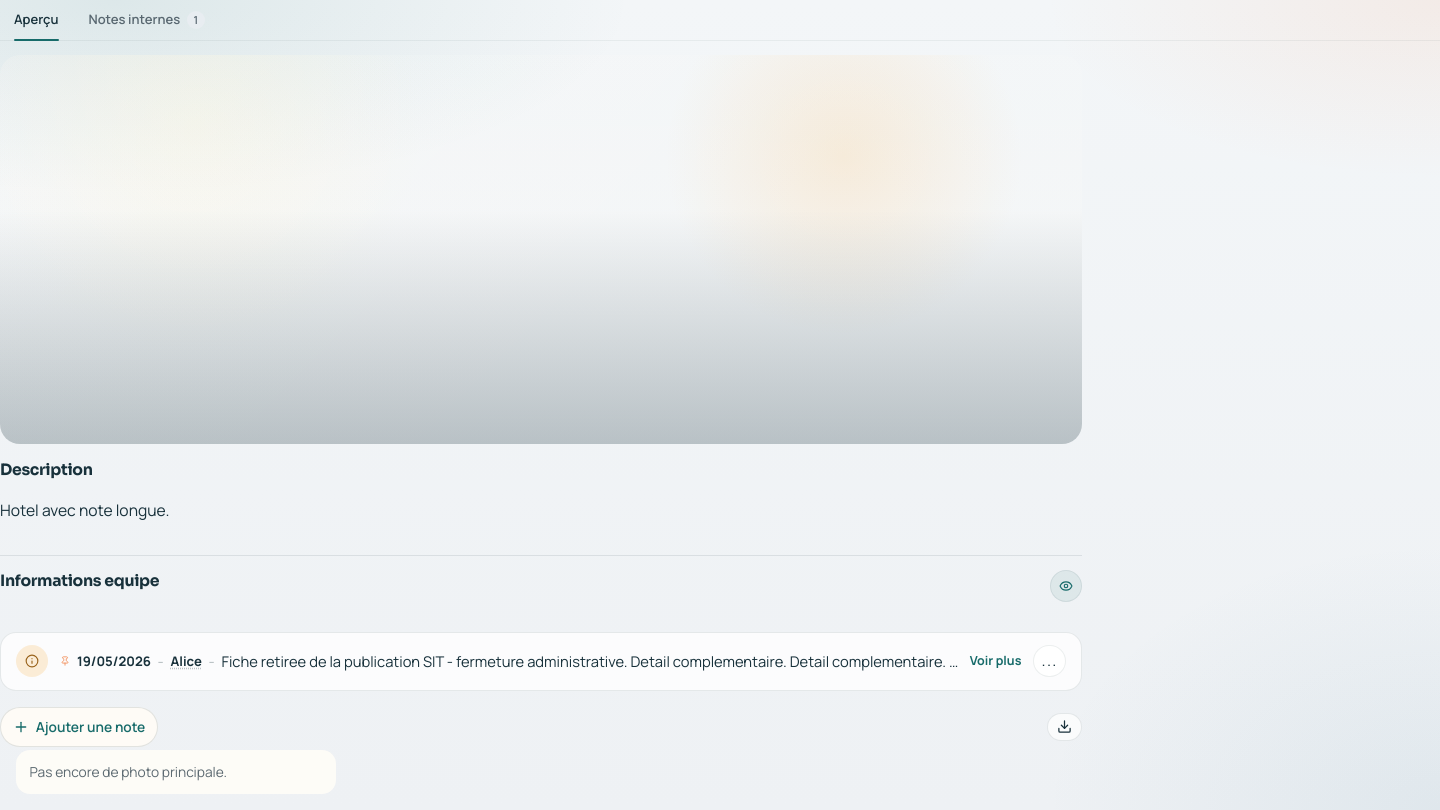
Test: ObjectDetailView › opens a dialog with the full note body when the user clicks a team note preview
Step 1. Click the button with aria-label "afficher la note complete" → (519, 661), box [16,645,1021,677]
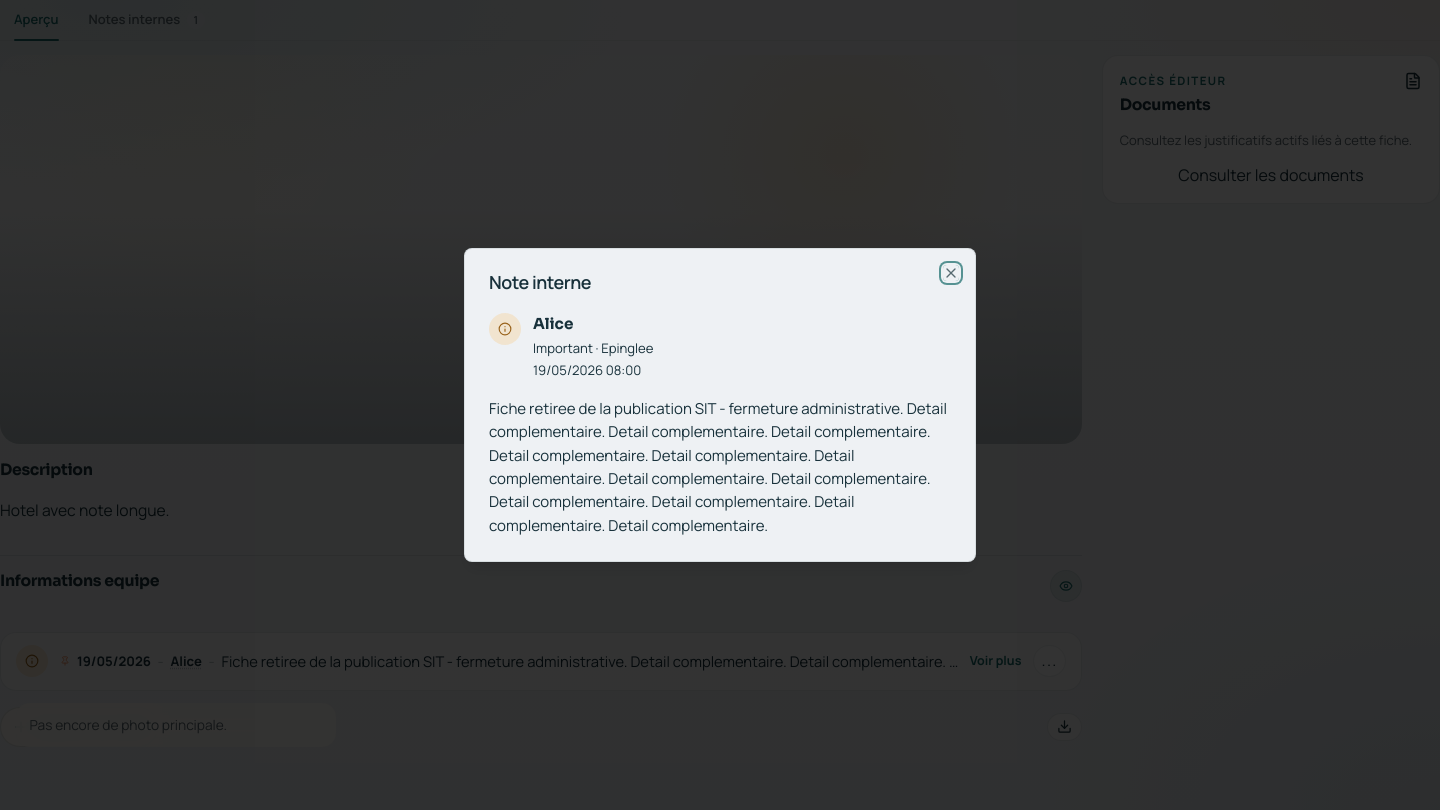
Check: the heading "Note interne" is shown, box [489,270,591,294]
